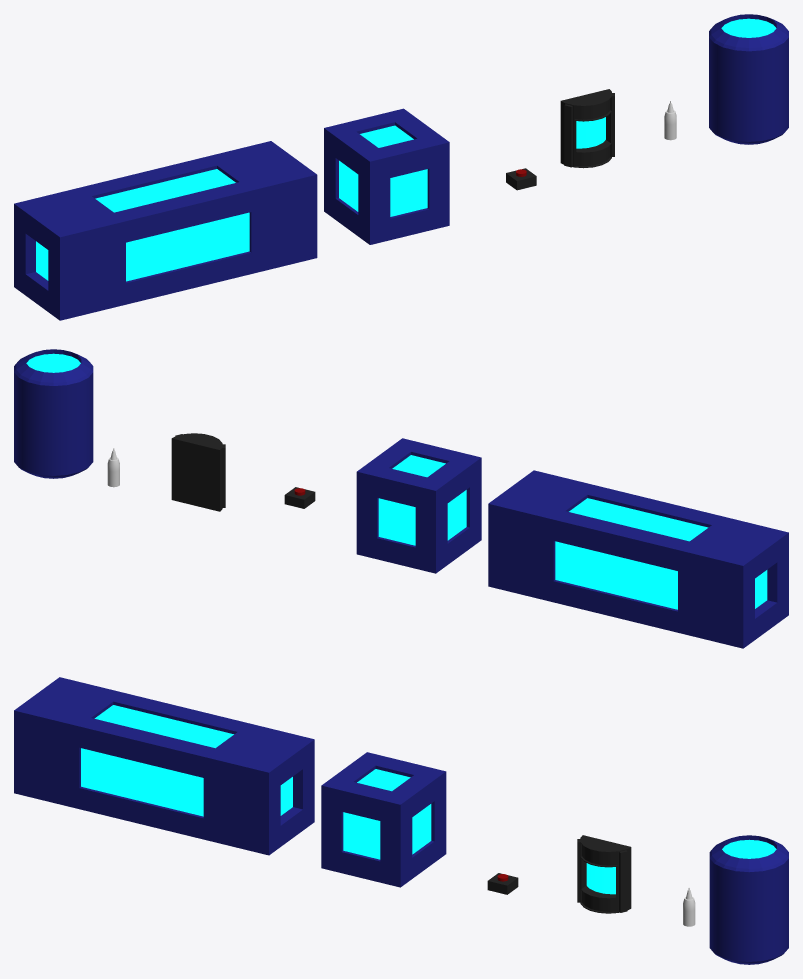
File: prefab.fbx
3 renders of one model, top to bottom at view 1: azimuth 30°, elevation 25°; view 2: azimuth 150°, elevation 25°; view 3: azimuth 330°, elevation 25°, orthographic.
Parts seen in each view (by area): view 1: grande caisse, petite caisse, Cylinder003, Cylinder001; view 2: grande caisse, petite caisse, Cylinder003, Cylinder001; view 3: grande caisse, petite caisse, Cylinder003, Cylinder001.
Boxes of the visible parts, left/top/right/bottom form: grande caisse: left=14, top=141, right=317, bottom=320; petite caisse: left=324, top=108, right=449, bottom=244; Cylinder003: left=709, top=14, right=788, bottom=144; Cylinder001: left=560, top=89, right=614, bottom=168; grande caisse: left=488, top=470, right=788, bottom=648; petite caisse: left=356, top=438, right=481, bottom=573; Cylinder003: left=14, top=349, right=93, bottom=478; Cylinder001: left=171, top=433, right=225, bottom=511; grande caisse: left=14, top=677, right=314, bottom=855; petite caisse: left=321, top=752, right=446, bottom=887; Cylinder003: left=709, top=835, right=788, bottom=964; Cylinder001: left=577, top=835, right=631, bottom=913.
Bounding box in the file's own units: 9.61 × 1.31 × 1.03.
